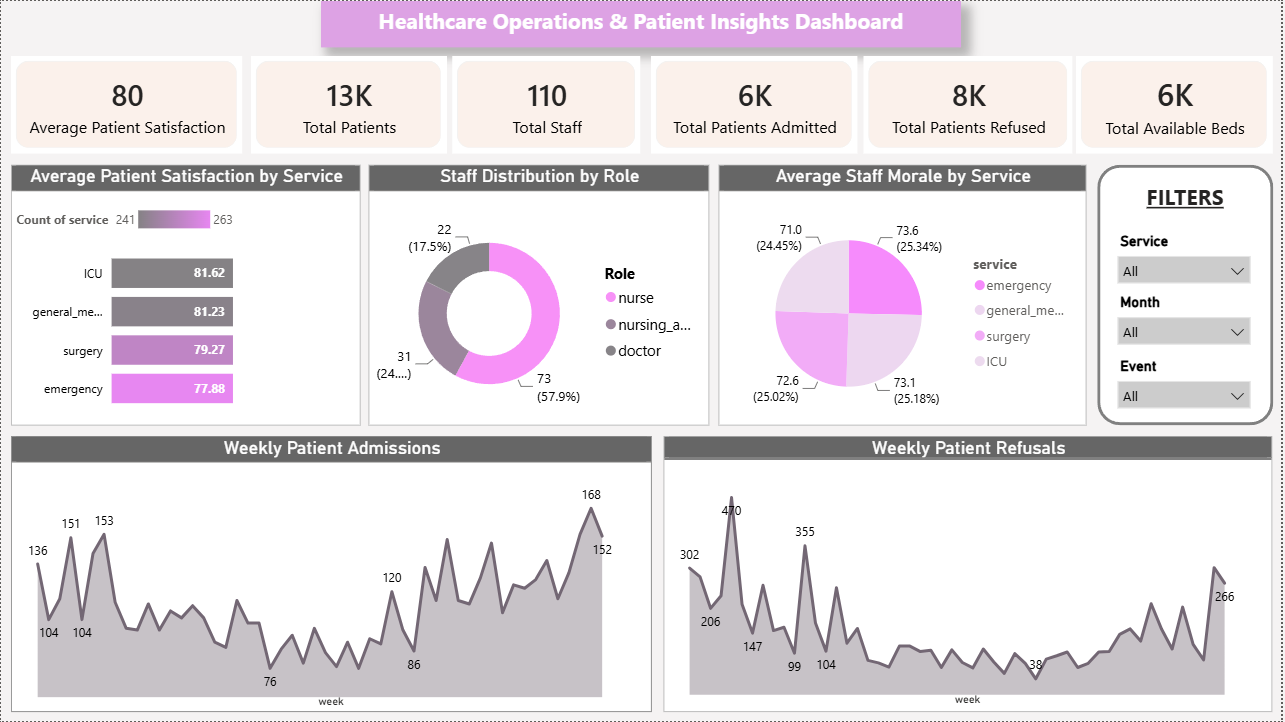

The page's visual inventory and layout, read from the dashboard file:
{"tool":"powerbi","page":{"name":"Page 1","canvas":[1280,720],"ordinal":0},"visuals":[{"type":"textbox","box":[320,0,640,46.2],"z":0},{"type":"cardVisual","fields":{"Data":["staff.Total Staff"]},"box":[451.2,55,188.3,97.8],"z":1000},{"type":"cardVisual","fields":{"Data":["services_weekly.Average Patient Satisfaction"]},"box":[9.8,55,231.1,97.8],"z":2000},{"type":"cardVisual","fields":{"Data":["Sum(services_weekly.available_beds)"]},"box":[1074.9,55,196.9,97.8],"z":3000},{"type":"cardVisual","fields":{"Data":["services_weekly.Total Patient_admitted"]},"box":[650.5,55,206.7,97.8],"z":4000},{"type":"cardVisual","fields":{"Data":["patients.Total Patient"]},"box":[249.5,55,195.7,97.8],"z":5000},{"type":"cardVisual","fields":{"Data":["Sum(services_weekly.patients_refused)"]},"box":[862.1,55,209.1,97.8],"z":6000},{"type":"pieChart","title":"Average Staff Morale by Service","fields":{"Category":["patients.service"],"Y":["Avg(services_weekly.staff_morale)"]},"box":[717.8,163.9,368.1,260.5],"z":7000},{"type":"hundredPercentStackedBarChart","title":"Average Patient Satisfaction by Service","fields":{"Category":["patients.service"],"Y":["Avg(services_weekly.patient_satisfaction)"]},"box":[9.8,163.9,349.7,260.5],"z":8000},{"type":"donutChart","title":"Staff Distribution by Role","fields":{"Category":["staff_schedule.role"],"Y":["CountNonNull(staff_schedule.staff_id)"]},"box":[368.1,163.9,341.2,260.5],"z":9000},{"type":"lineChart","title":"Weekly Patient Refusals","fields":{"Category":["services_weekly.week"],"Y":["Sum(services_weekly.patients_refused)"]},"box":[662.8,435.3,609,276.4],"z":10000},{"type":"lineChart","title":"Weekly Patient Admissions","fields":{"Category":["services_weekly.week"],"Y":["Sum(services_weekly.patients_admitted)"]},"box":[9.8,435.3,640.8,276.4],"z":11000},{"type":"shape","box":[1095.7,163.9,176.1,260.5],"z":12000},{"type":"textbox","box":[1117.7,176.1,133.3,39.1],"z":13000},{"type":"slicer","fields":{"Values":["patients.service"]},"box":[1106.7,226.2,152.9,61.1],"z":14000},{"type":"slicer","fields":{"Values":["services_weekly.event"]},"box":[1106.7,351,152.9,58.7],"z":15000},{"type":"slicer","fields":{"Values":["services_weekly.month"]},"box":[1106.7,287.4,152.9,63.6],"z":16000}]}

Visuals, with their boxes in screenshot pixels (x1, y1, x2, y2), scaled from the page's 1280x720 canvas onto the 1285x722 screenshot:
textbox: x1=321 y1=0 x2=964 y2=46
cardVisual - staff.Total Staff: x1=453 y1=55 x2=642 y2=153
cardVisual - services_weekly.Average Patient Satisfaction: x1=10 y1=55 x2=242 y2=153
cardVisual - Sum(services_weekly.available_beds): x1=1079 y1=55 x2=1277 y2=153
cardVisual - services_weekly.Total Patient_admitted: x1=653 y1=55 x2=861 y2=153
cardVisual - patients.Total Patient: x1=250 y1=55 x2=447 y2=153
cardVisual - Sum(services_weekly.patients_refused): x1=865 y1=55 x2=1075 y2=153
"Average Staff Morale by Service" pieChart: x1=721 y1=164 x2=1090 y2=426
"Average Patient Satisfaction by Service" hundredPercentStackedBarChart: x1=10 y1=164 x2=361 y2=426
"Staff Distribution by Role" donutChart: x1=370 y1=164 x2=712 y2=426
"Weekly Patient Refusals" lineChart: x1=665 y1=437 x2=1277 y2=714
"Weekly Patient Admissions" lineChart: x1=10 y1=437 x2=653 y2=714
shape: x1=1100 y1=164 x2=1277 y2=426
textbox: x1=1122 y1=177 x2=1256 y2=216
slicer - patients.service: x1=1111 y1=227 x2=1265 y2=288
slicer - services_weekly.event: x1=1111 y1=352 x2=1265 y2=411
slicer - services_weekly.month: x1=1111 y1=288 x2=1265 y2=352
